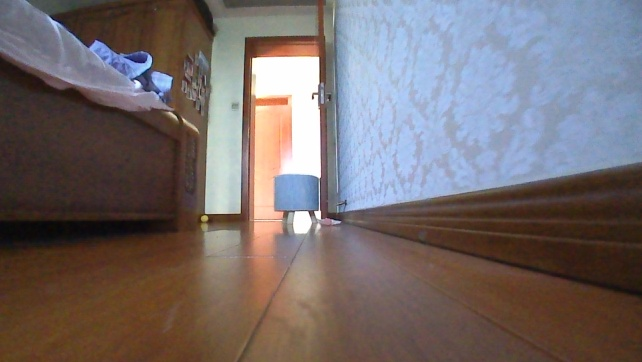bed1: (0, 0, 205, 239)
door_anno: (308, 0, 339, 225)
